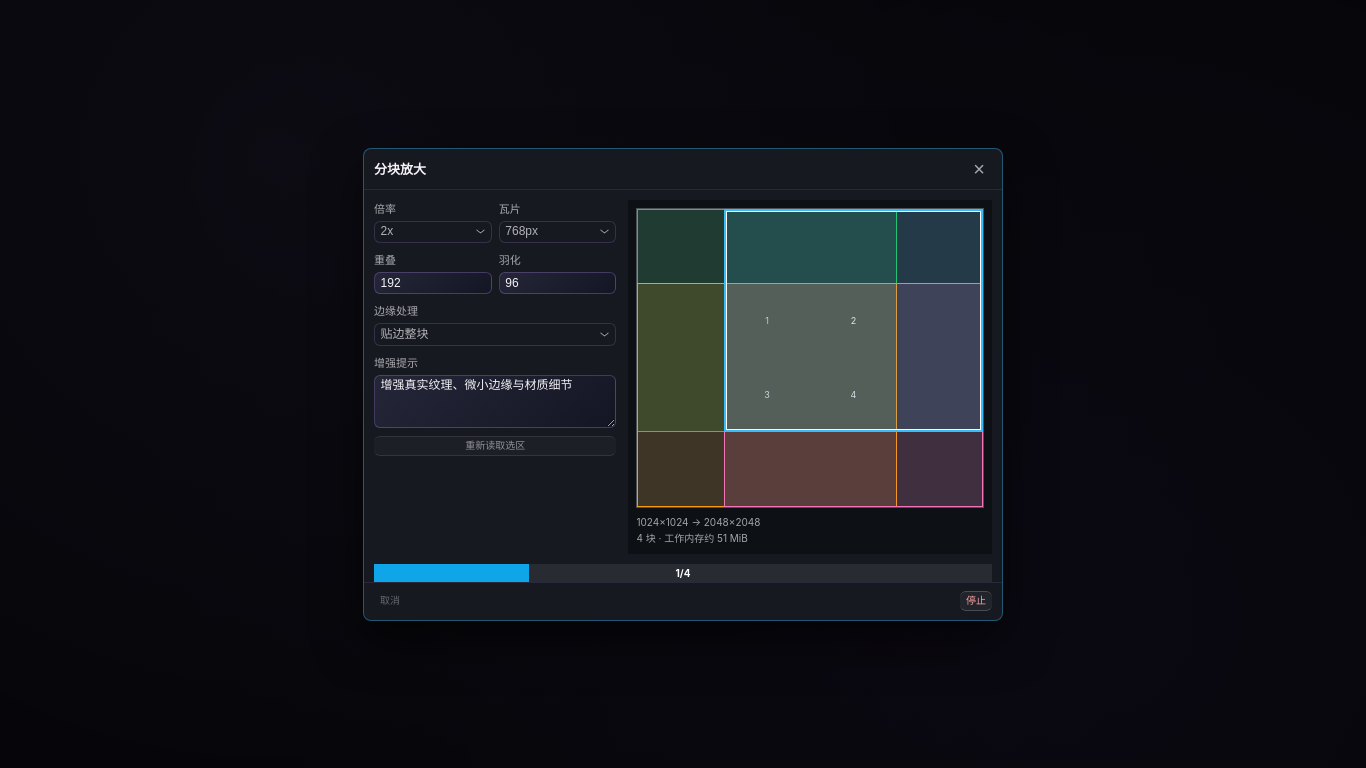
Test case: TiledUpscaleDialog › uses a Forge-safe default and exposes stop during a running tile
Click the button "停止".
click(976, 601)  # box [960,591,992,611]
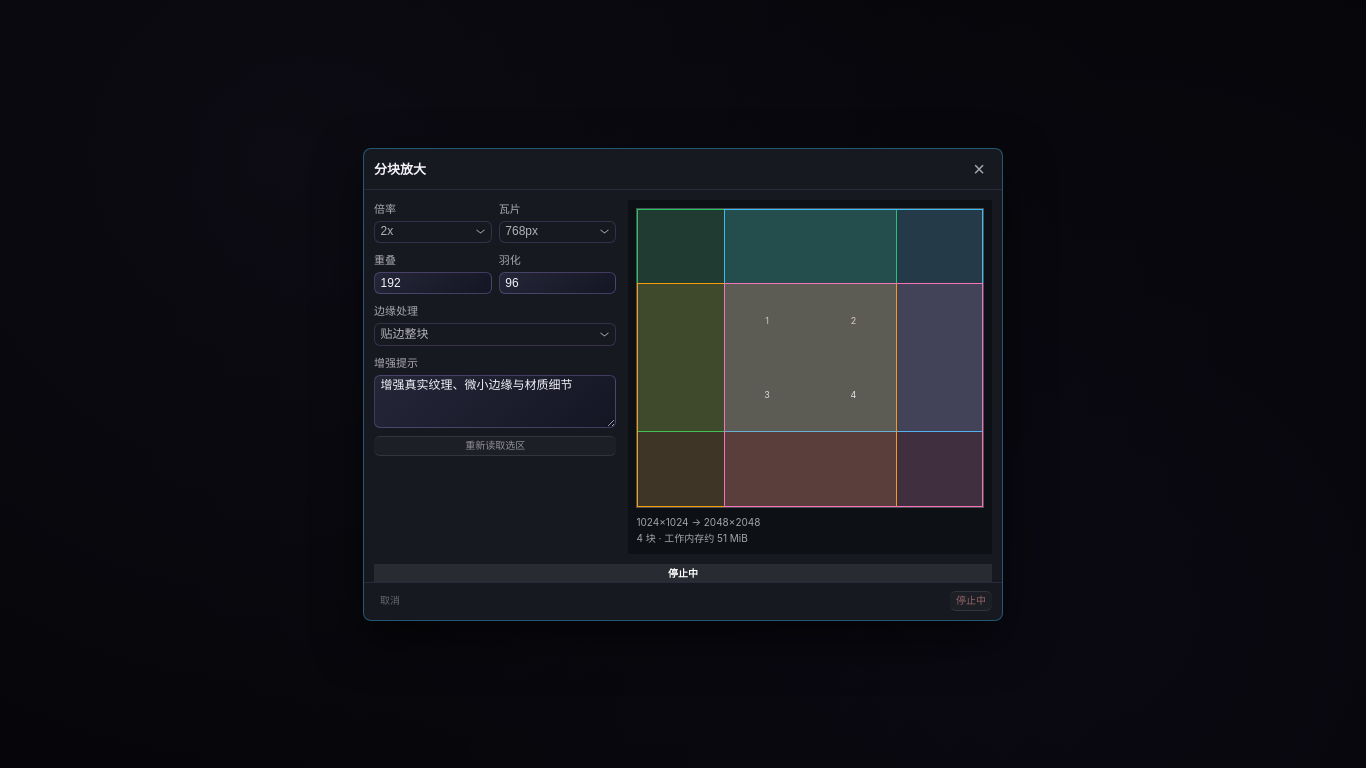
Check: the progress indicator "停止中" is shown, box [374,564,992,582]
Check: the button "停止中" is disabled, box [950,591,992,611]
